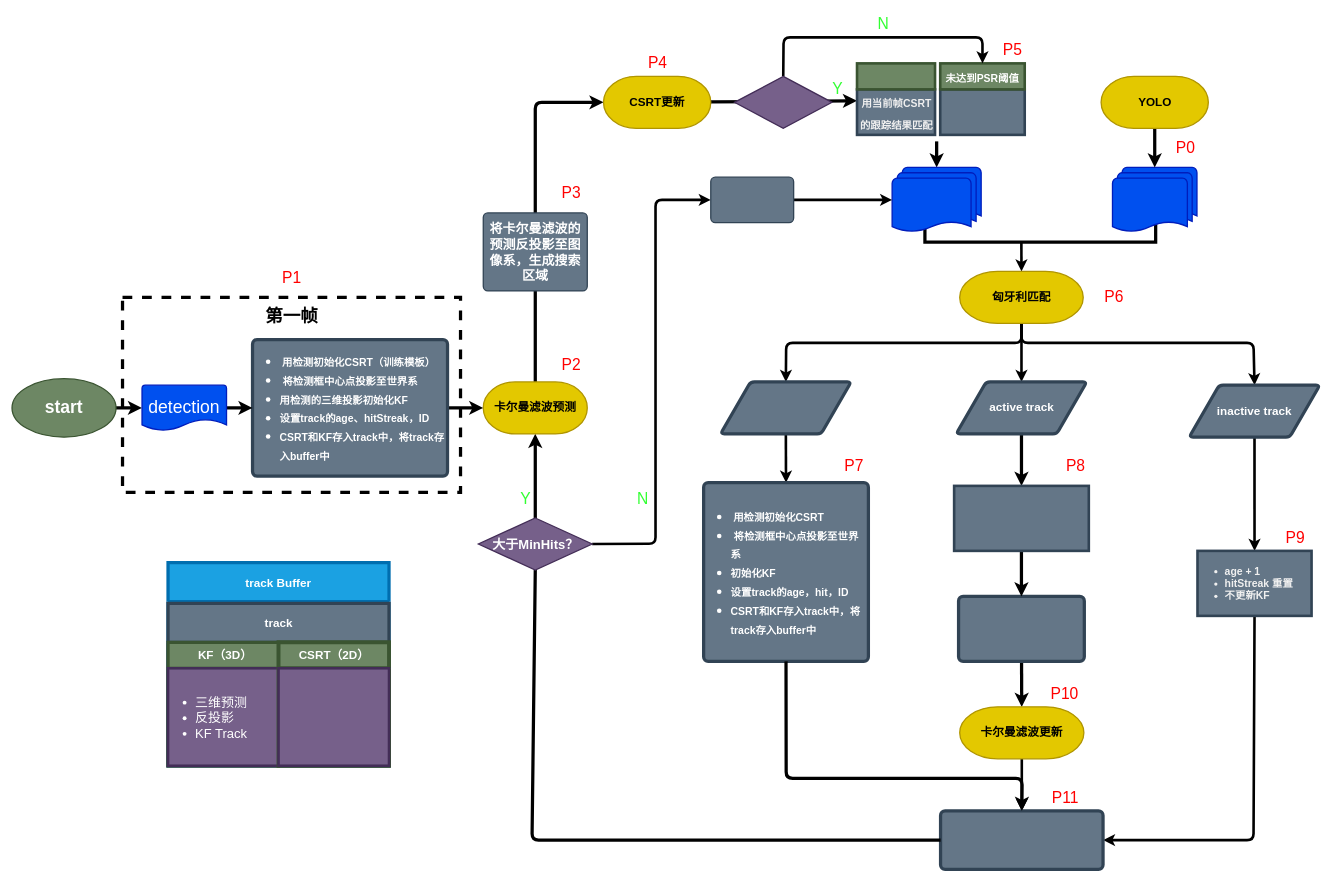
This 1333x882 diagram has some shape labels left out. Here are the shapes that lost their labels. From the top down, the centre of each, then its label:
At point (895, 76): "达到PSR阈值".
At point (783, 102): "大于PSR？".
At point (982, 112): "用上一帧CSRT的跟踪结果匹配".
At point (752, 199): "上一帧CSRT的跟踪结果".
At point (936, 199): "tracks".
At point (1154, 199): "detections".
At point (785, 407): "new detection".
At point (1021, 518): "hitStreak + 1 age重置".
At point (1021, 628): "将检测投影至世界系".
At point (333, 717): "目标位置估计 CSRT Track".
At point (1021, 840): "删除age大于maxAge的Track".
